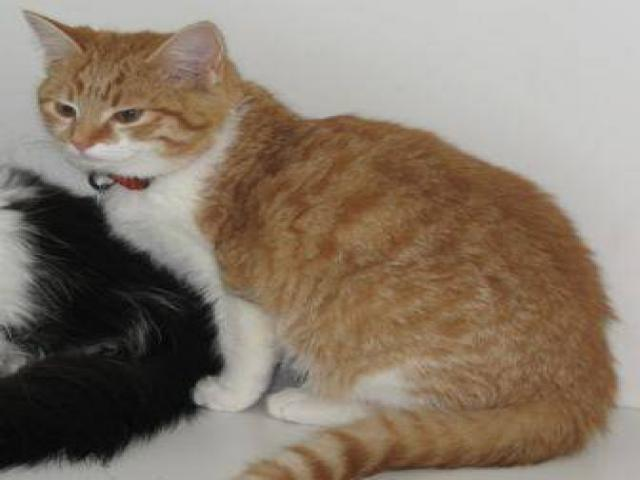cat: (1, 7, 622, 475)
